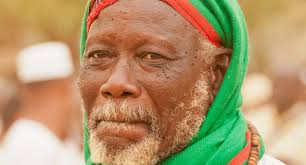middle_eastern_male: (83, 4, 229, 161)
